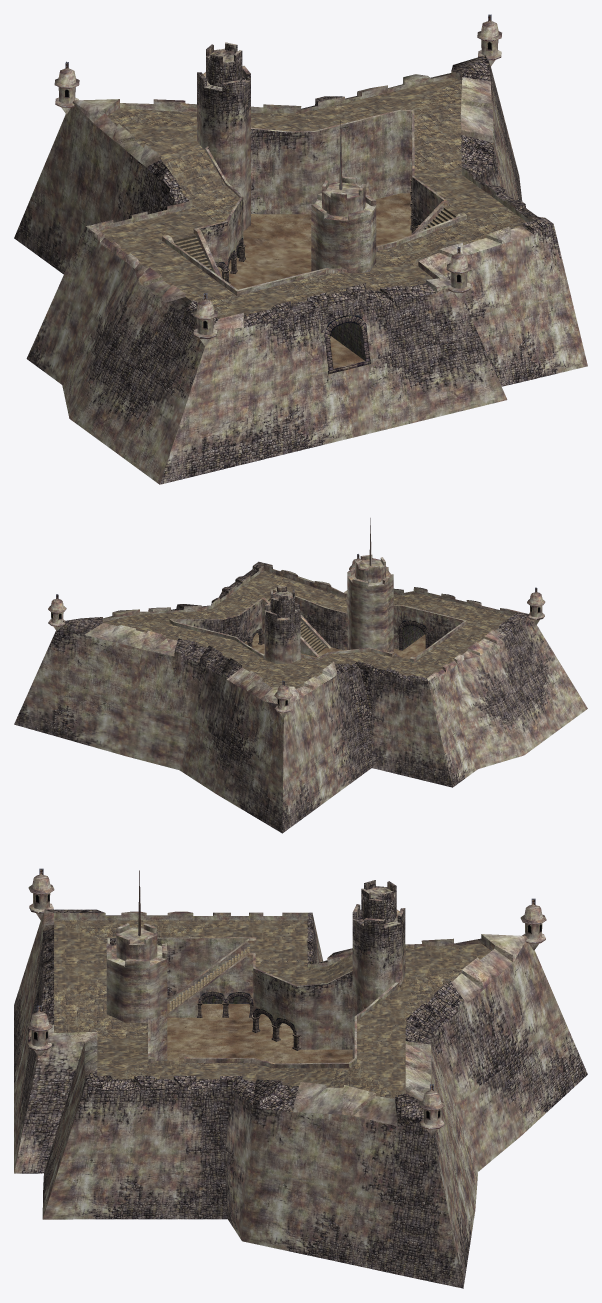
File: fort_medium.fbx
The picture shows the model from 3 angles, top to bottom: view 1: azimuth 30°, elevation 25°; view 2: azimuth 150°, elevation 25°; view 3: azimuth 270°, elevation 25°; orthographic projection. The views are drawn at different scales.
Visible parts, largest first — view 1: polySurfaceShape1353.001, polySurfaceShape1353, TopFloor.001, Int_walls8.001, TopFloor, tower14.001, tower11.001, polySurface473.001, polySurface282.001, polySurface473, polySurface198.001, corner_tower11.001 (+2 smaller); view 2: polySurfaceShape1353.001, polySurfaceShape1353, TopFloor.001, TopFloor, Int_walls8.001, tower11.001, tower14.001, polySurface282.001, polySurface473.001; view 3: polySurfaceShape1353.001, polySurfaceShape1353, TopFloor.001, TopFloor, Int_walls8.001, tower11.001, polySurface473, tower14.001, polySurface473.001, polySurface282.001, corner_tower11.001, Stairs1.001 (+2 smaller).
Part boxes in pixels (<box>): polySurfaceShape1353.001: <box>14,55,587,484</box>; polySurfaceShape1353: <box>21,72,570,484</box>; TopFloor.001: <box>100,77,526,318</box>; Int_walls8.001: <box>188,110,443,285</box>; TopFloor: <box>104,78,470,317</box>; tower14.001: <box>197,42,250,231</box>; tower11.001: <box>311,176,376,272</box>; polySurface473.001: <box>217,193,411,368</box>; polySurface282.001: <box>162,109,466,295</box>; polySurface473: <box>243,193,419,364</box>; polySurface198.001: <box>330,322,365,360</box>; corner_tower11.001: <box>446,253,471,298</box>; polySurfaceShape1353.001: <box>14,561,557,833</box>; polySurfaceShape1353: <box>15,566,587,826</box>; TopFloor.001: <box>103,571,507,688</box>; TopFloor: <box>104,591,511,687</box>; Int_walls8.001: <box>172,596,463,650</box>; tower11.001: <box>347,554,393,652</box>; tower14.001: <box>264,586,300,663</box>; polySurface282.001: <box>169,588,466,662</box>; polySurface473.001: <box>244,633,425,659</box>; polySurfaceShape1353.001: <box>14,909,587,1288</box>; polySurfaceShape1353: <box>14,911,563,1287</box>; TopFloor.001: <box>54,920,490,1098</box>; TopFloor: <box>54,920,465,1097</box>; Int_walls8.001: <box>110,938,354,1063</box>; tower11.001: <box>106,923,167,1060</box>; polySurface473: <box>167,1003,352,1063</box>; tower14.001: <box>352,880,405,1058</box>; polySurface473.001: <box>30,1004,352,1063</box>; polySurface282.001: <box>107,937,398,1068</box>; corner_tower11.001: <box>27,1011,52,1055</box>; Stairs1.001: <box>169,947,250,1011</box>.
Bounding box in the file's own units: 49238 × 21126 × 42071.
Materials: 7 (7 with a texture image).
